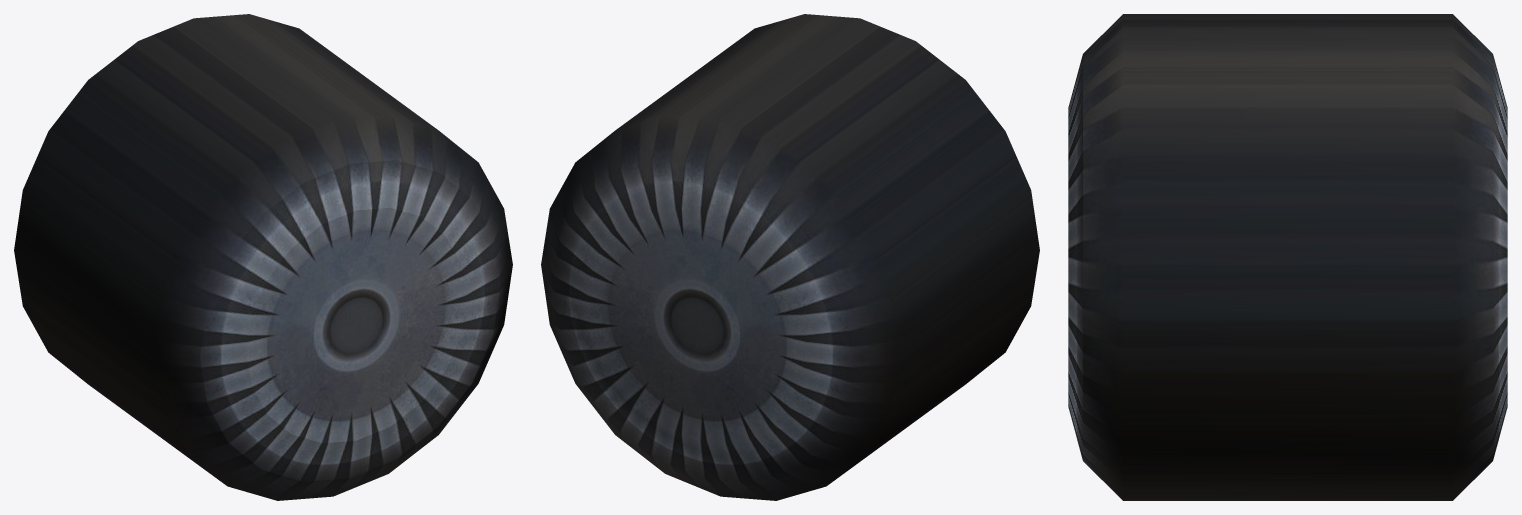
File: Enemy_Ship_1_Piece_2.fbx
The picture shows the model from 3 angles, left to right: view 1: azimuth 30°, elevation 25°; view 2: azimuth 150°, elevation 25°; view 3: azimuth 270°, elevation 25°; orthographic projection. The views are drawn at different scales.
Parts seen in each view (by area): view 1: enemy_ship1_part2; view 2: enemy_ship1_part2; view 3: enemy_ship1_part2.
Boxes of the visible parts, x1,y1,x2,y2 form: enemy_ship1_part2: [14, 14, 512, 500]; enemy_ship1_part2: [541, 14, 1039, 500]; enemy_ship1_part2: [1068, 14, 1507, 500].
Bounding box in the file's own units: 39.18 × 39.18 × 35.1.
